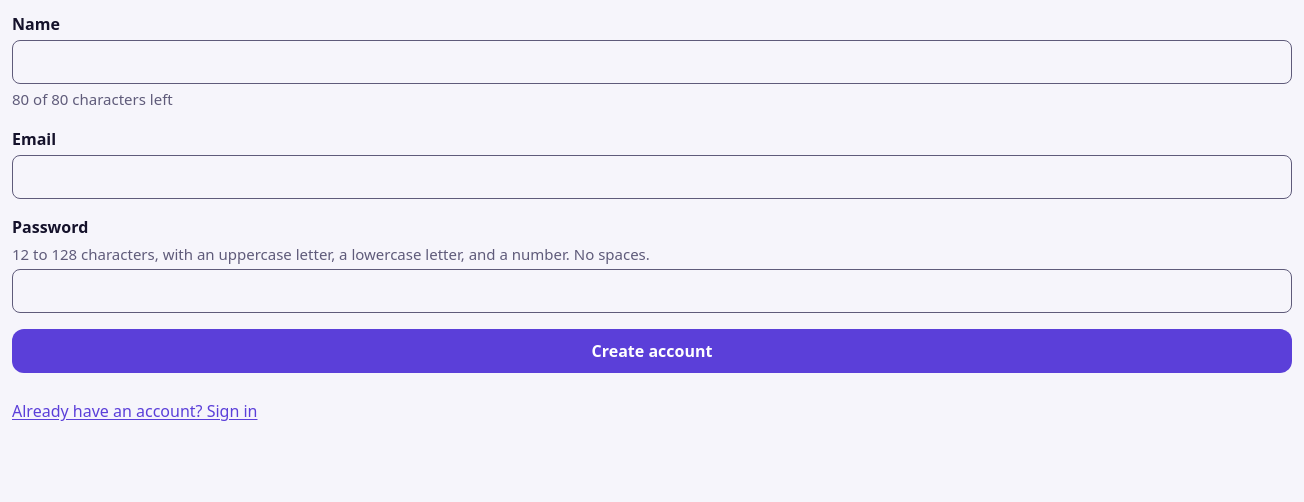
Test: SignUpForm › shows a refusal in its own words
The image size is (1304, 502).
Type "Ana" into the field labelled "Name".
click(652, 62); type("Ana")  # box left=12, top=40, right=1292, bottom=84
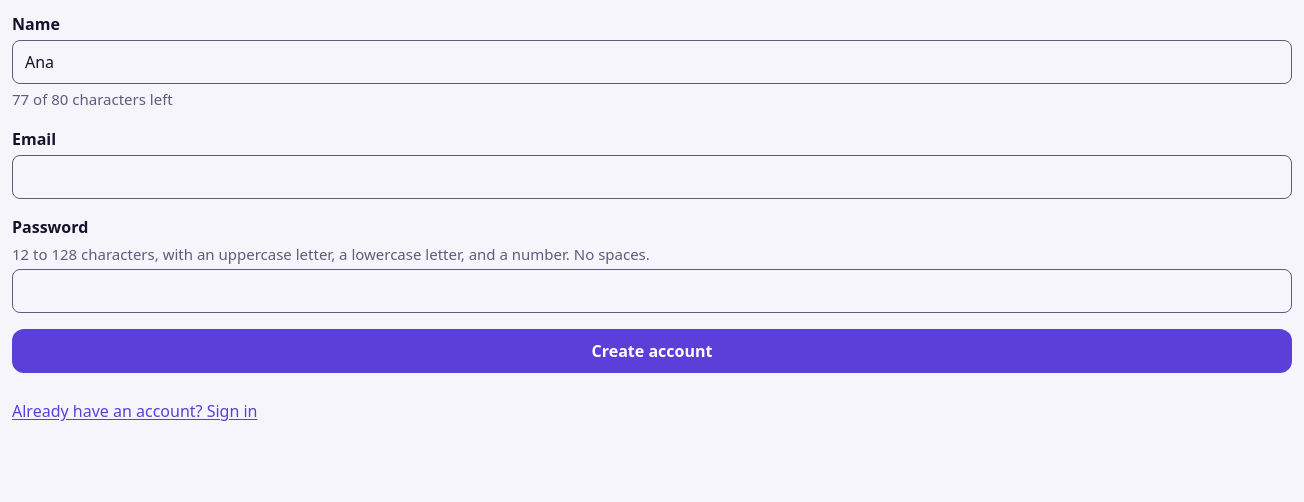
Type "ana@example.com" into the field labelled "Email".
click(652, 176); type("ana@example.com")  # box left=12, top=154, right=1292, bottom=198
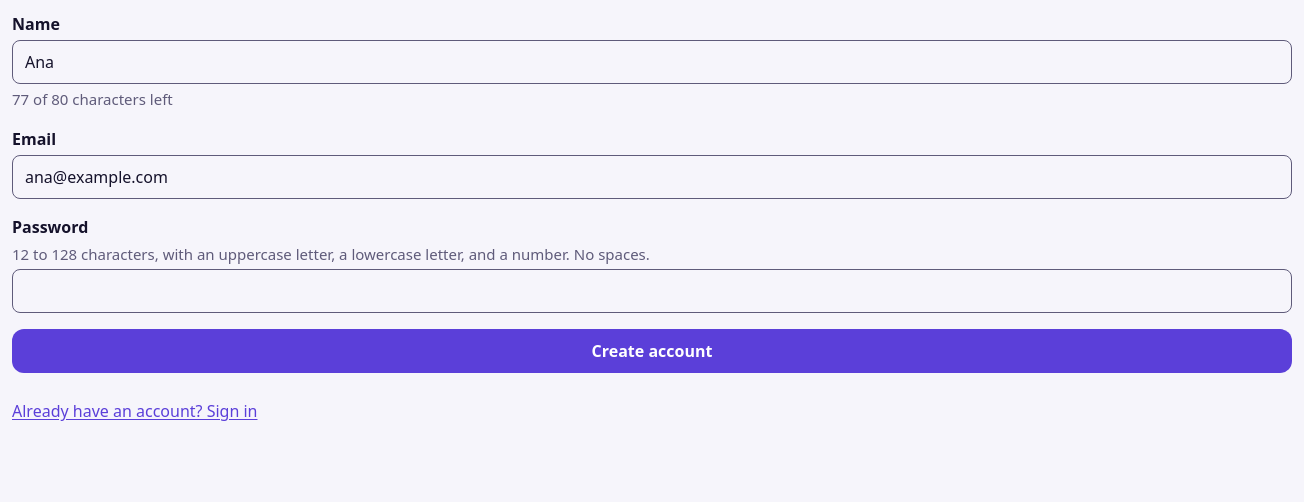
Type "A-long-enough-password-1" into the password field labelled "Password".
click(652, 291); type("A-long-enough-password-1")  # box left=12, top=269, right=1292, bottom=313
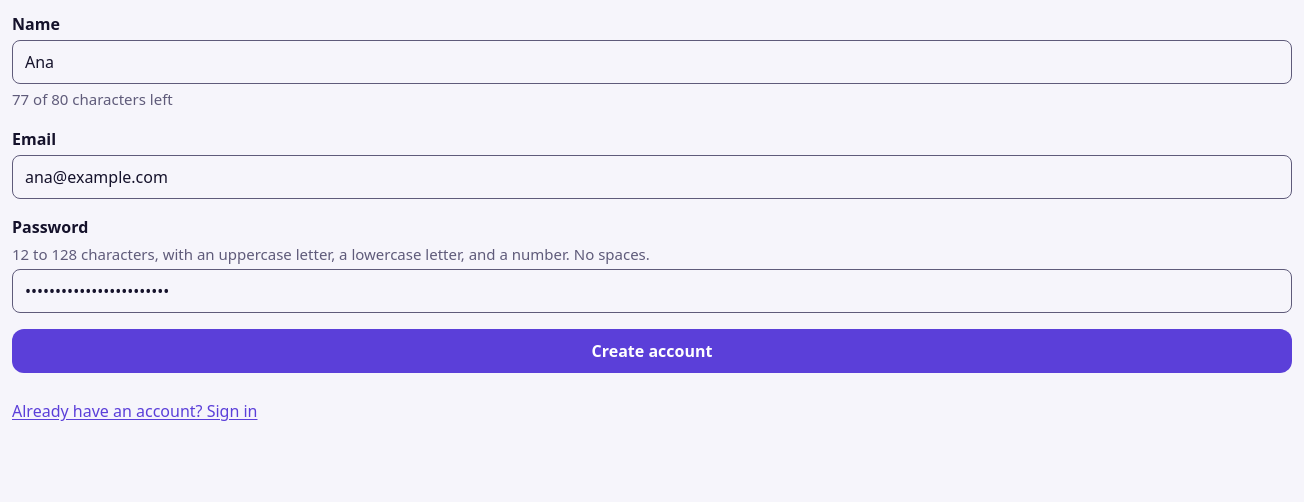
Click the button "Create account".
click(652, 351)  # box left=12, top=329, right=1292, bottom=373
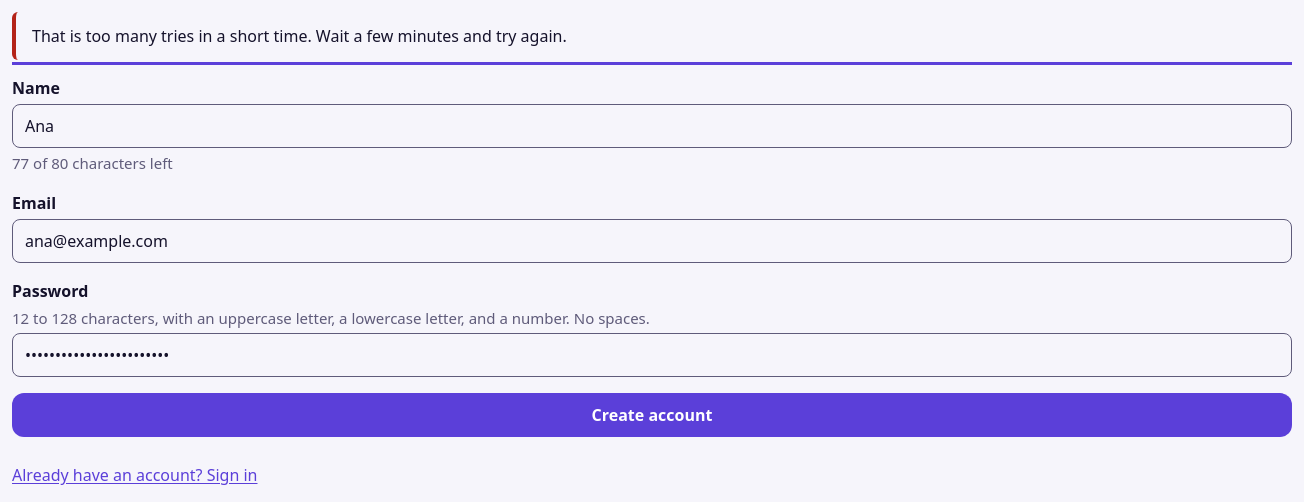
Expected: the text "too many tries" is shown, left=32, top=25, right=567, bottom=47
